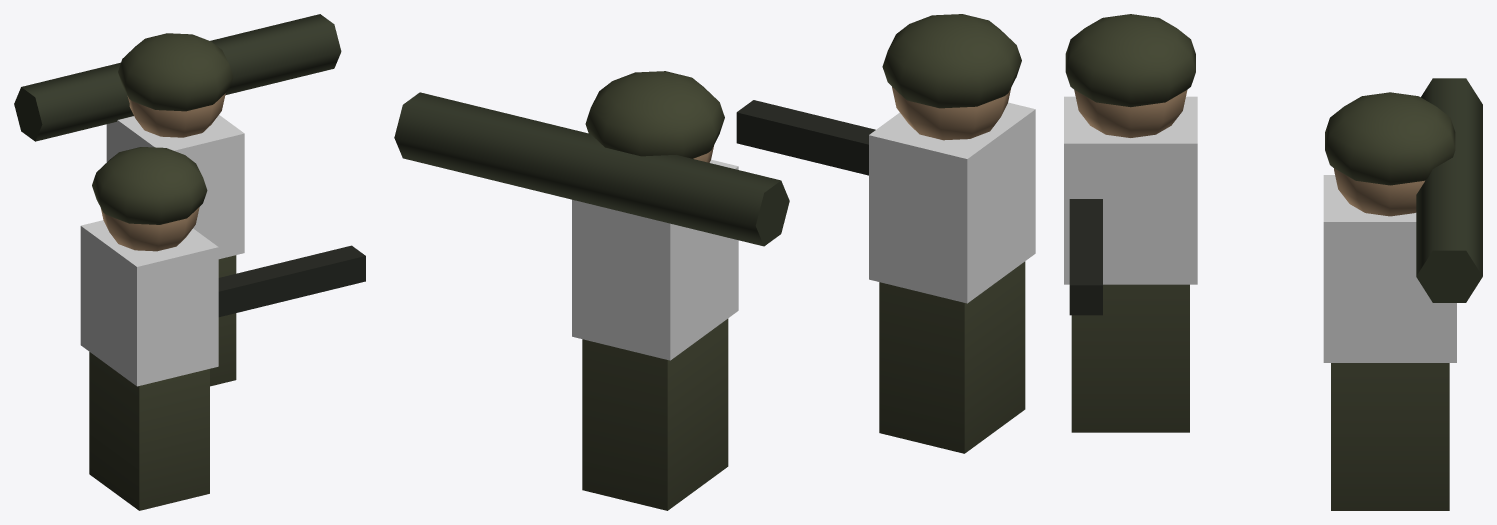
Rendered from m_fpvt_9ecbbbcd.glb.
3 views of the same model, side by side, from view 1: azimuth 30°, elevation 25°; view 2: azimuth 150°, elevation 25°; view 3: azimuth 270°, elevation 25° (orthographic). The views are drawn at different scales.
Visible parts, largest first — view 1: mesh; view 2: mesh; view 3: mesh.
Boxes of the visible parts, left/top/right/bottom form: mesh: left=14, top=14, right=365, bottom=510; mesh: left=394, top=14, right=1035, bottom=510; mesh: left=1064, top=14, right=1482, bottom=510.
Bounding box in the file's own units: 13.35 × 11.6 × 11.3.
